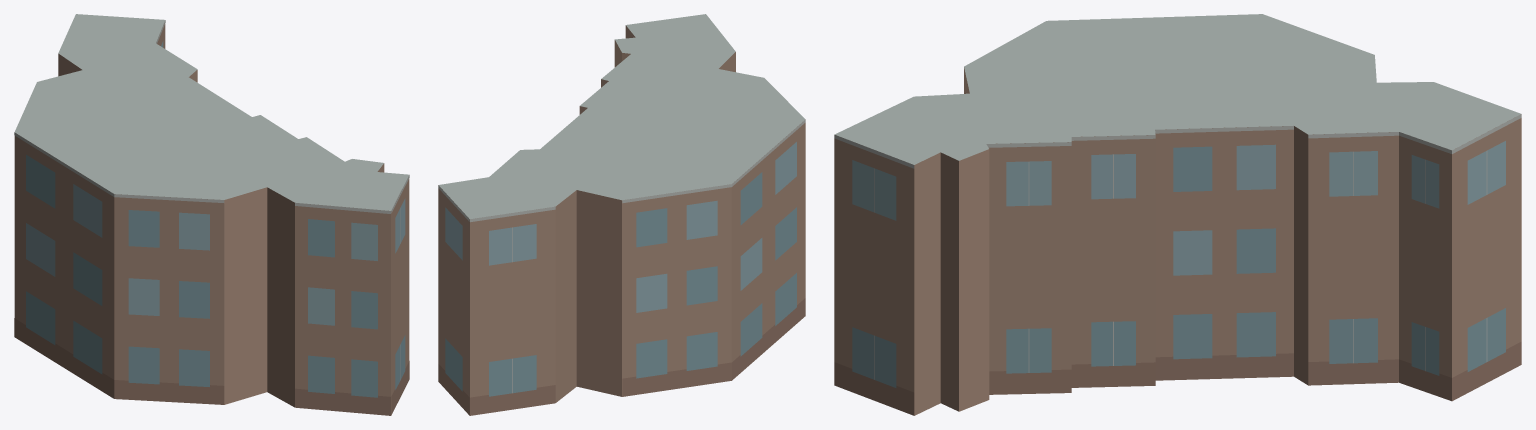
Rendered from survey-upis-32587525.glb.
3 views of the same model, side by side, from view 1: azimuth 30°, elevation 25°; view 2: azimuth 150°, elevation 25°; view 3: azimuth 270°, elevation 25° (orthographic). The views are drawn at different scales.
Parts seen in each view (by area): view 1: survey-upis-32587525.tmp; view 2: survey-upis-32587525.tmp; view 3: survey-upis-32587525.tmp.
Boxes of the visible parts, box(x1,y1,x2,y2) form: survey-upis-32587525.tmp: box(14, 14, 409, 415); survey-upis-32587525.tmp: box(438, 14, 805, 415); survey-upis-32587525.tmp: box(834, 14, 1521, 415).
Bounding box in the file's own units: 20.53 × 15.9 × 39.48.
